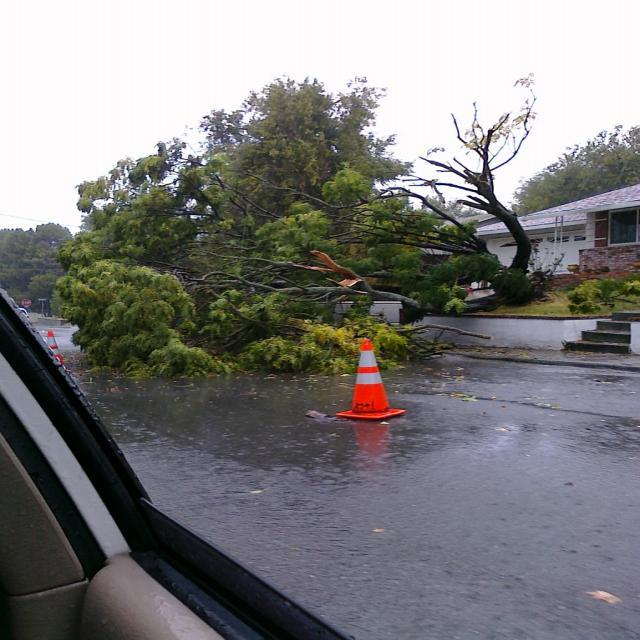truck: (0, 290, 345, 640)
